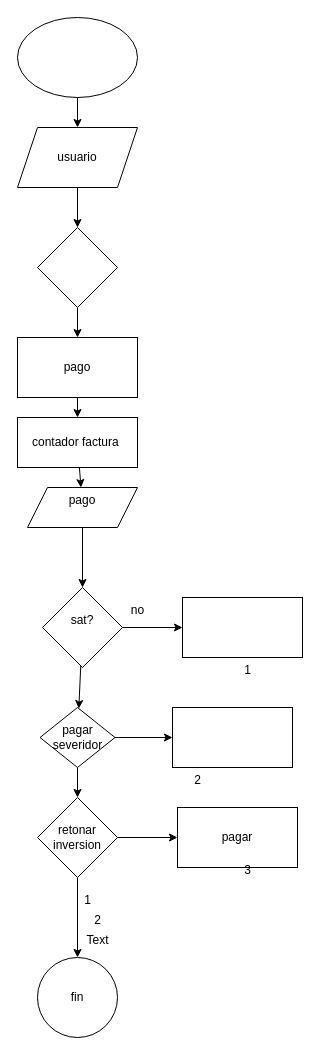
Image size: 320x1055. Some labels were removed from this diagram. The centre of each missing label's shape, as x and y in pixels:
INCIO: the point at 77,57
pagar sat: the point at 242,627
pagar serv: the point at 232,737
prime?: the point at 77,267
